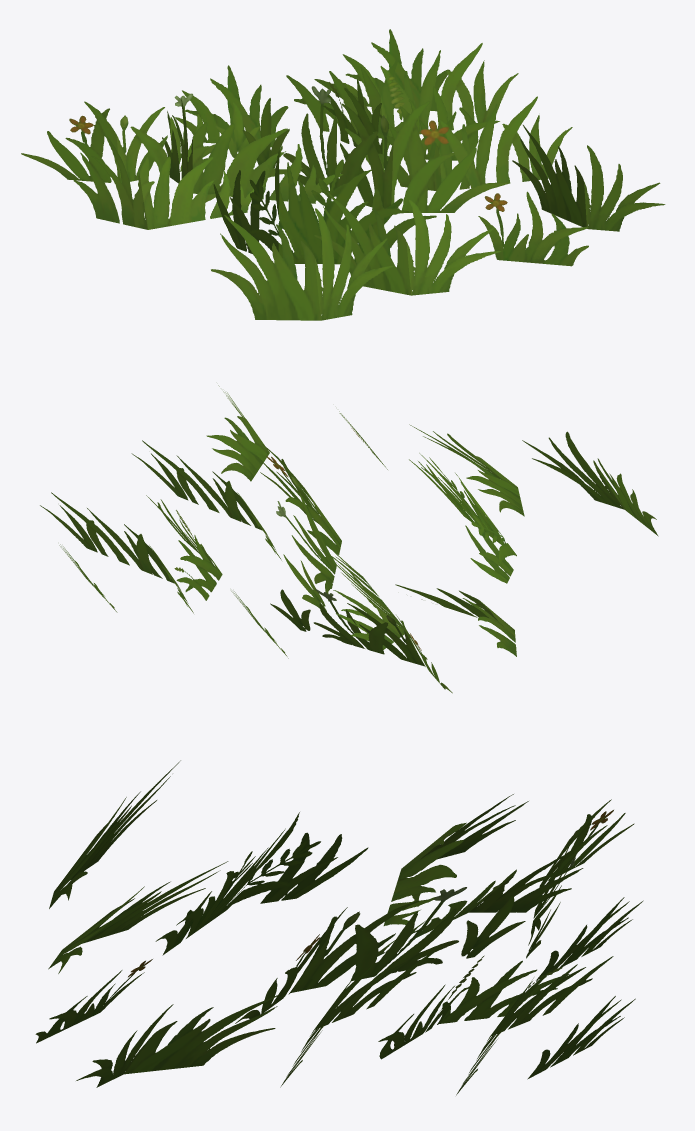
The model's file is grass_01.FBX.
The picture shows the model from 3 angles, top to bottom: view 1: azimuth 30°, elevation 25°; view 2: azimuth 150°, elevation 25°; view 3: azimuth 270°, elevation 25°; orthographic projection. The views are drawn at different scales.
Visible parts, largest first — view 1: Plane006; view 2: Plane006; view 3: Plane006.
Part boxes in pixels (x1=…): Plane006: x1=21, y1=29, x2=665, y2=320; Plane006: x1=40, y1=385, x2=658, y2=693; Plane006: x1=35, y1=760, x2=643, y2=1095.
Size of the model in its own units: 1.94 by 0.3822 by 1.92.
Materials: 1 (1 with a texture image).
